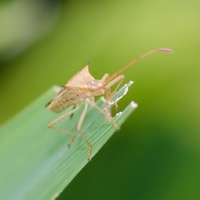insect: (45, 48, 172, 160)
